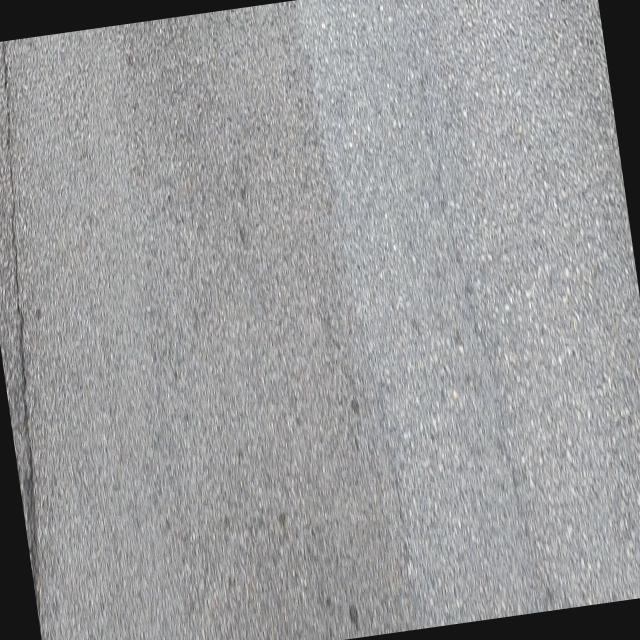Retak-Memanjang: (0, 40, 44, 615)
